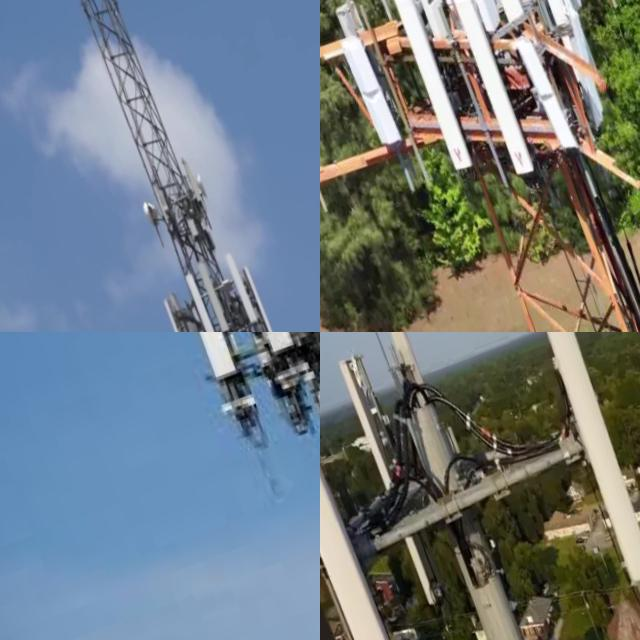GSM Antenna: (330, 343, 448, 626), (544, 332, 640, 602), (446, 0, 540, 193), (384, 0, 479, 183), (382, 332, 464, 497), (320, 478, 388, 640), (508, 25, 578, 166), (334, 27, 404, 157), (154, 332, 246, 395), (209, 332, 303, 374), (217, 249, 257, 332), (519, 0, 578, 49), (190, 261, 229, 332), (234, 261, 272, 332), (179, 272, 216, 332), (176, 153, 203, 211), (155, 298, 191, 332), (157, 283, 183, 326)
Microwave Antenna: (130, 191, 164, 241), (190, 175, 211, 207)
